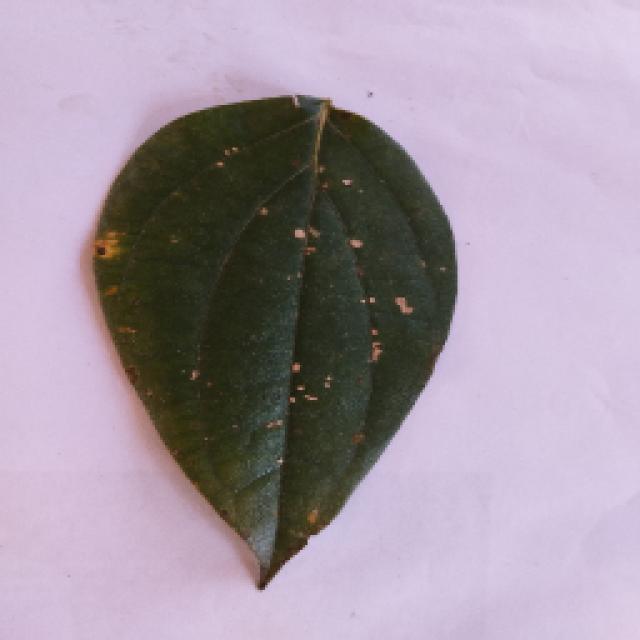pollu-disease: (72, 88, 470, 588)
